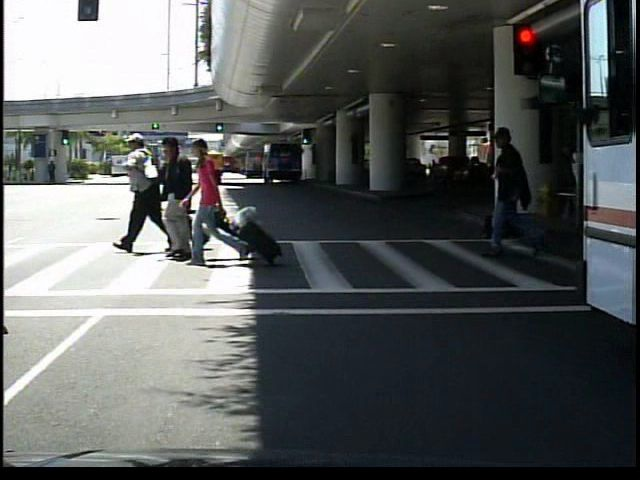person: (477, 118, 549, 260)
